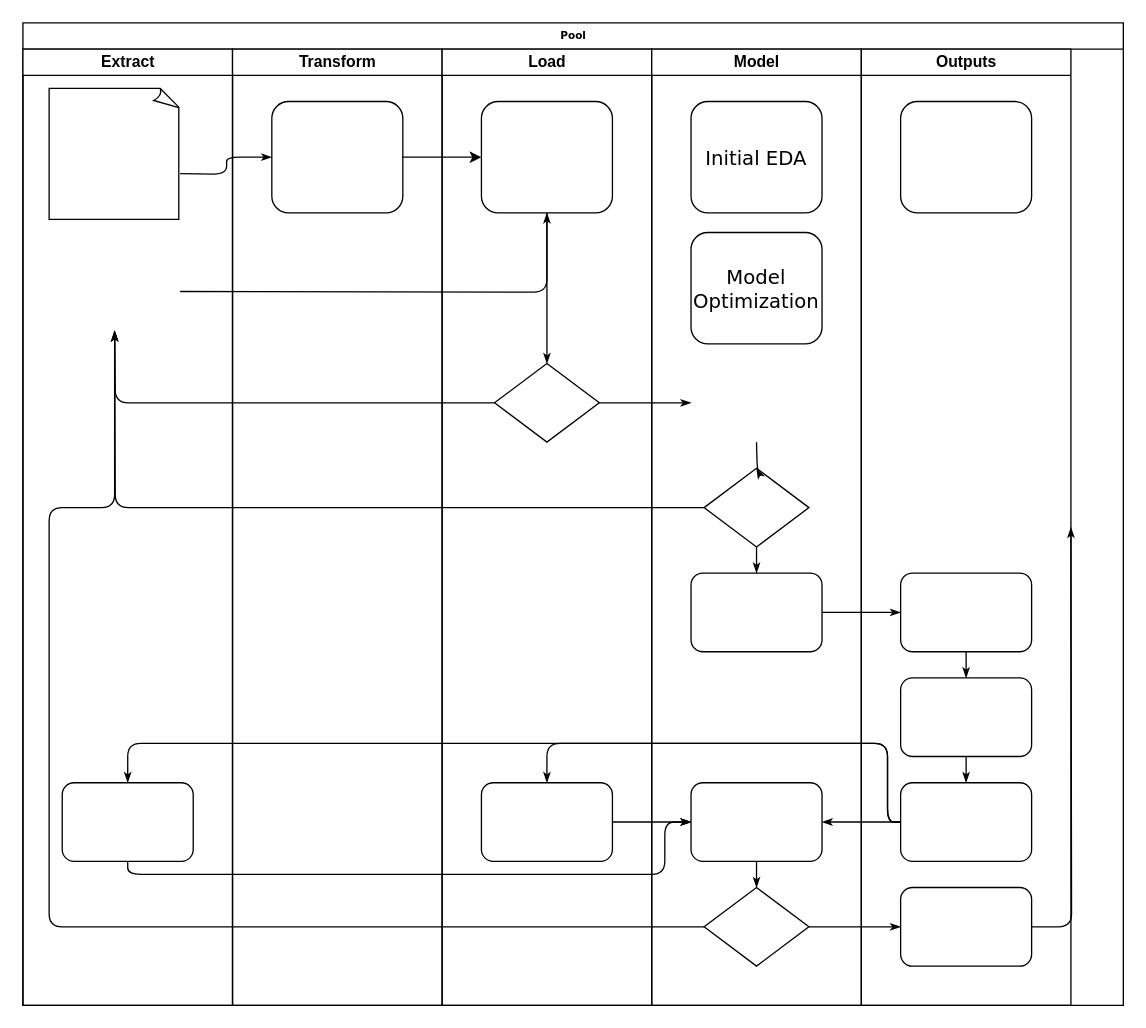
Some shapes in this 1146 by 1028 pixel diagram are drawn without their labels. The shapes that lost their labels are listed below. From the top down, each one's centre as x and y in pixels, then its label:
At [114,153]: ".CSV".
At [337,156]: "Data Cleaning".
At [546,156]: "SQL Database".
At [965,156]: "Model Tracking & Analysis".
